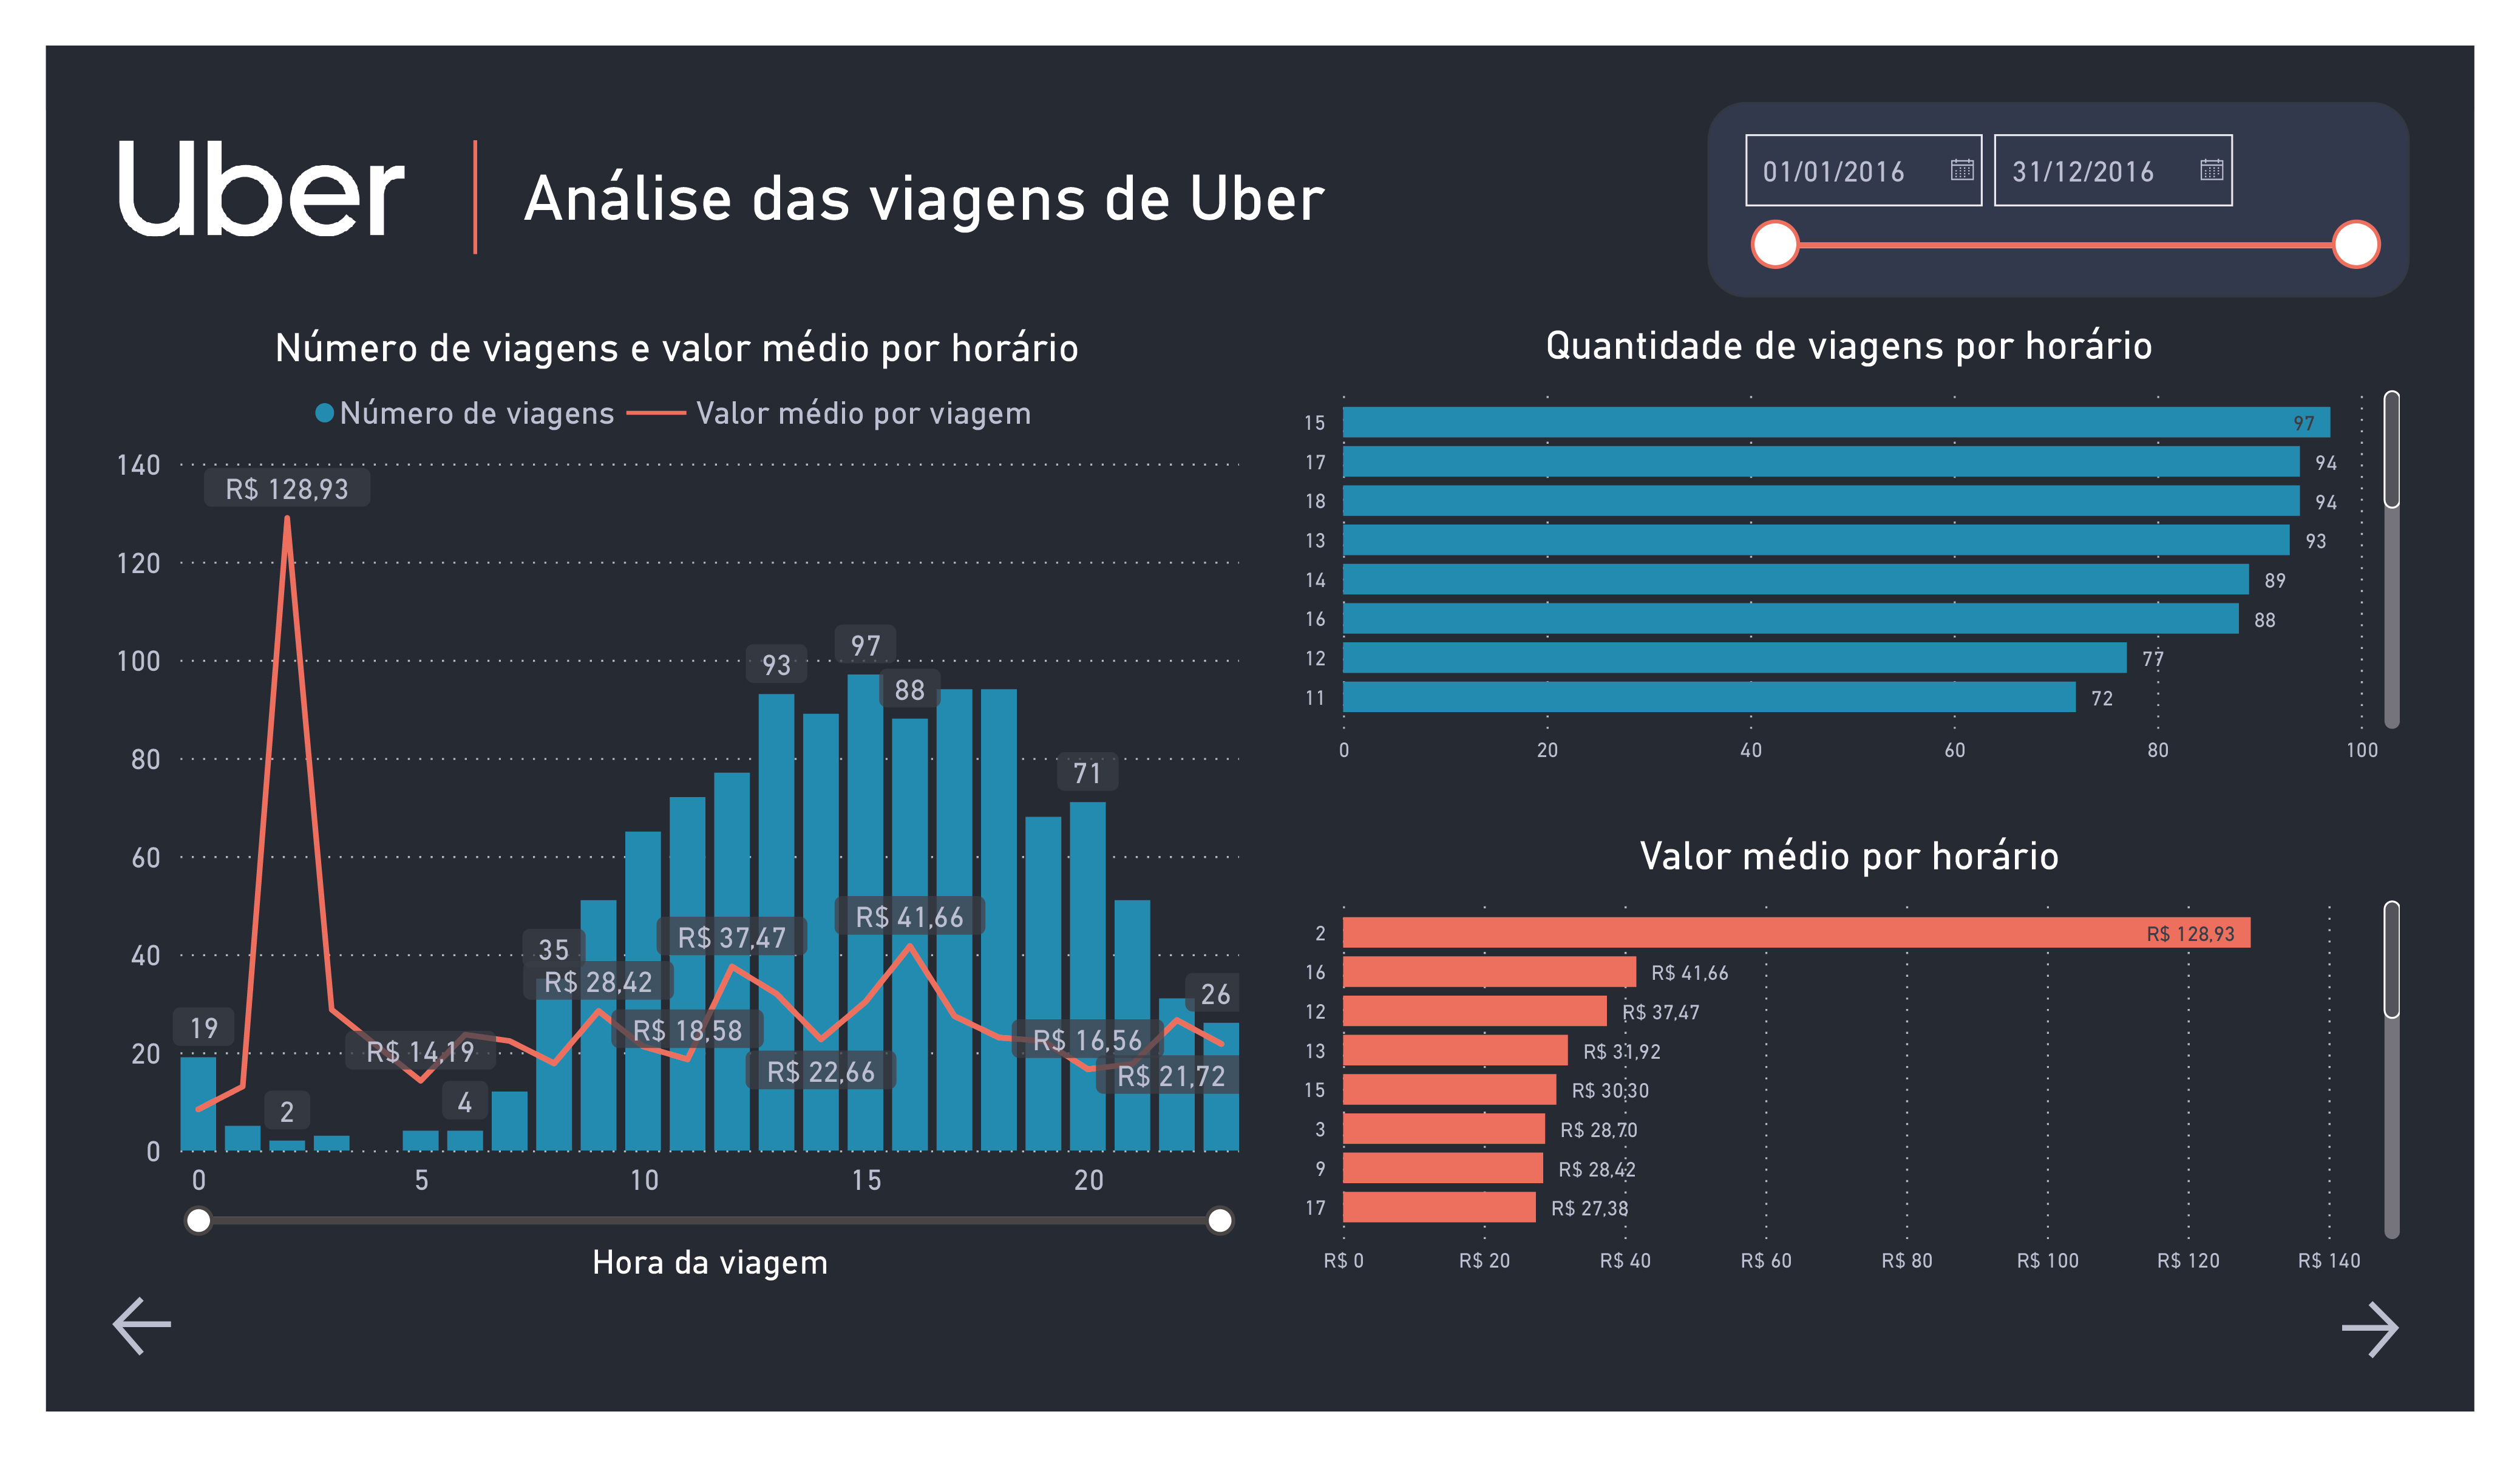

The dashboard page shown, as its layout file describes it:
{"tool":"powerbi","page":{"name":"Horário","canvas":[1280,720],"ordinal":5},"visuals":[{"type":"slicer","fields":{"Values":["Dataset Uber 2016.INÍCIO_VIAGEM"]},"box":[876,29.2,369.9,103.2],"z":0},{"type":"textbox","box":[246.2,56.5,597.9,54],"z":1000},{"type":"shape","box":[212.3,50.2,28.9,60.3],"z":2000},{"type":"image","box":[15.1,30.1,197.2,94.2],"z":3000},{"type":"actionButton","box":[31.3,654.3,43.8,40.7],"z":4000},{"type":"lineStackedColumnComboChart","title":"Número de viagens e valor médio por horário","fields":{"Category":["Dataset Uber 2016.HORA INÍCIO VIAGEM"],"Y":["Dataset Uber 2016.# QUANTIDADE DE VIAGENS"],"Y2":["Avg(Dataset Uber 2016.VALOR)"]},"box":[31.1,146,603.5,509.1],"z":5000},{"type":"clusteredBarChart","title":"Valor médio por horário","fields":{"Category":["Dataset Uber 2016.HORA INÍCIO VIAGEM"],"Y":["Dataset Uber 2016.# VALOR / VIAGENS"]},"box":[655.9,413.6,590,240.6],"z":6000},{"type":"actionButton","box":[1204.8,656.4,40.8,39.6],"z":7000},{"type":"clusteredBarChart","title":"Quantidade de viagens por horário","fields":{"Category":["Dataset Uber 2016.HORA INÍCIO VIAGEM"],"Y":["Dataset Uber 2016.# QUANTIDADE DE VIAGENS"]},"box":[655.9,145.8,590,240.6],"z":8000}]}

Visuals, with their boxes on the page's 1280x720 design canvas (x1, y1, x2, y2). These are canvas units, not pixel positions in the 2520x1457 screenshot, which may show the page scaled, cropped or inside an application window:
slicer - Dataset Uber 2016.INÍCIO_VIAGEM: (876,29,1246,132)
textbox: (246,56,844,110)
shape: (212,50,241,110)
image: (15,30,212,124)
actionButton: (31,654,75,695)
"Número de viagens e valor médio por horário" lineStackedColumnComboChart: (31,146,635,655)
"Valor médio por horário" clusteredBarChart: (656,414,1246,654)
actionButton: (1205,656,1246,696)
"Quantidade de viagens por horário" clusteredBarChart: (656,146,1246,386)
